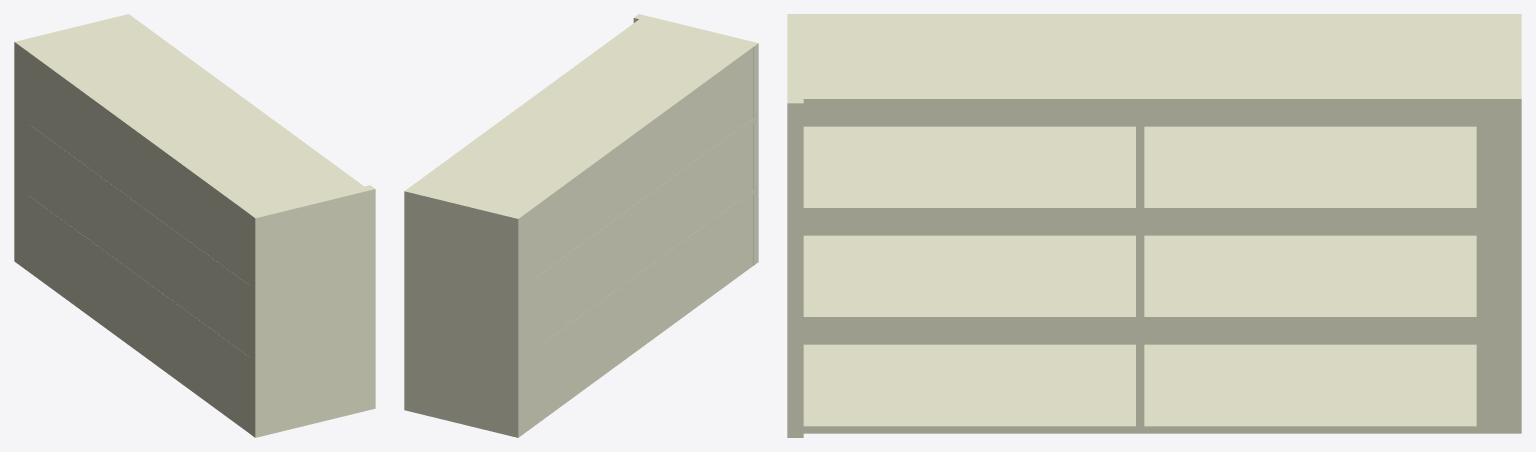
The picture shows the model from 3 angles, left to right: view 1: azimuth 30°, elevation 25°; view 2: azimuth 150°, elevation 25°; view 3: azimuth 270°, elevation 25°; orthographic projection. The views are drawn at different scales.
Visible parts, largest first — view 1: ROOT_link (×9); view 2: ROOT_link (×9); view 3: ROOT_link (×10).
Boxes of the visible parts, bbox=[...] form: ROOT_link (×9): bbox=[14, 14, 375, 437]; ROOT_link (×9): bbox=[404, 14, 758, 437]; ROOT_link (×10): bbox=[787, 14, 1521, 437].
Size of the model in its own units: 0.515 by 0.9 by 1.79.
